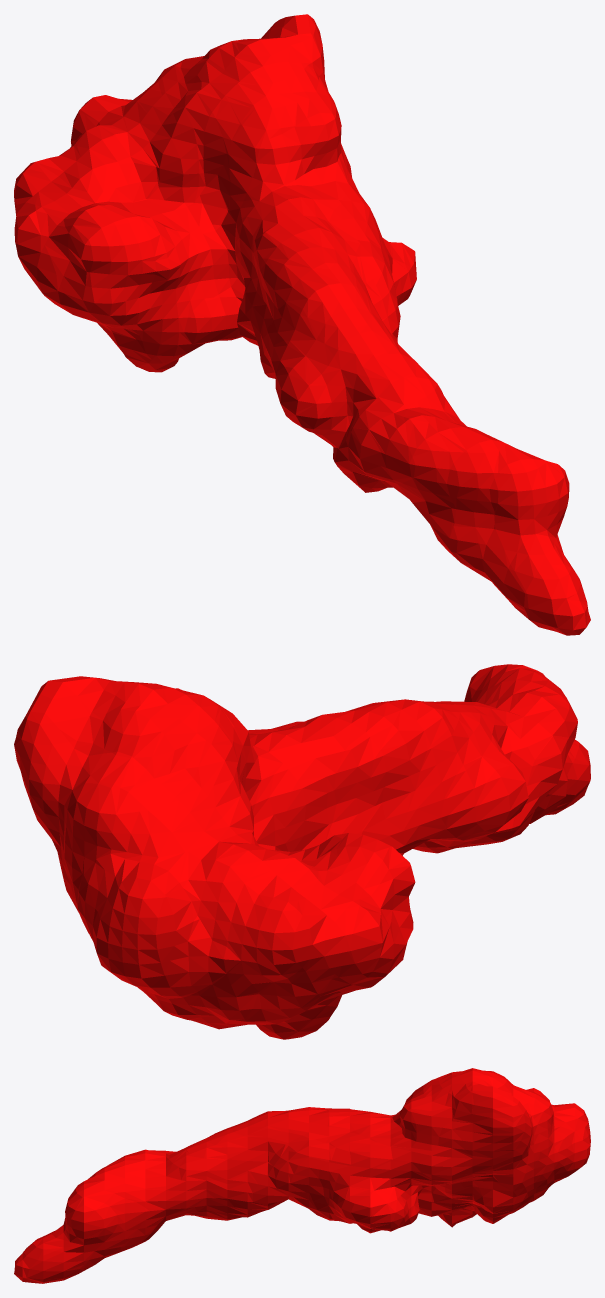
Rendered from Clusterin_coarse.dae.
3 renders of one model, top to bottom at view 1: azimuth 30°, elevation 25°; view 2: azimuth 150°, elevation 25°; view 3: azimuth 270°, elevation 25°, orthographic. The views are drawn at different scales.
Parts seen in each view (by area): view 1: Clusterin; view 2: Clusterin; view 3: Clusterin.
Part boxes in pixels (<box>): Clusterin: <box>14,14,590,635</box>; Clusterin: <box>14,664,590,1039</box>; Clusterin: <box>14,1068,590,1283</box>.
Bounding box in the file's own units: 63.02 × 66.56 × 157.
